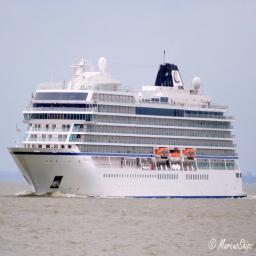cruises: (7, 49, 253, 201)
